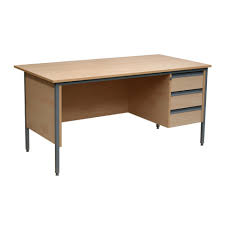desk: (5, 49, 217, 181)
